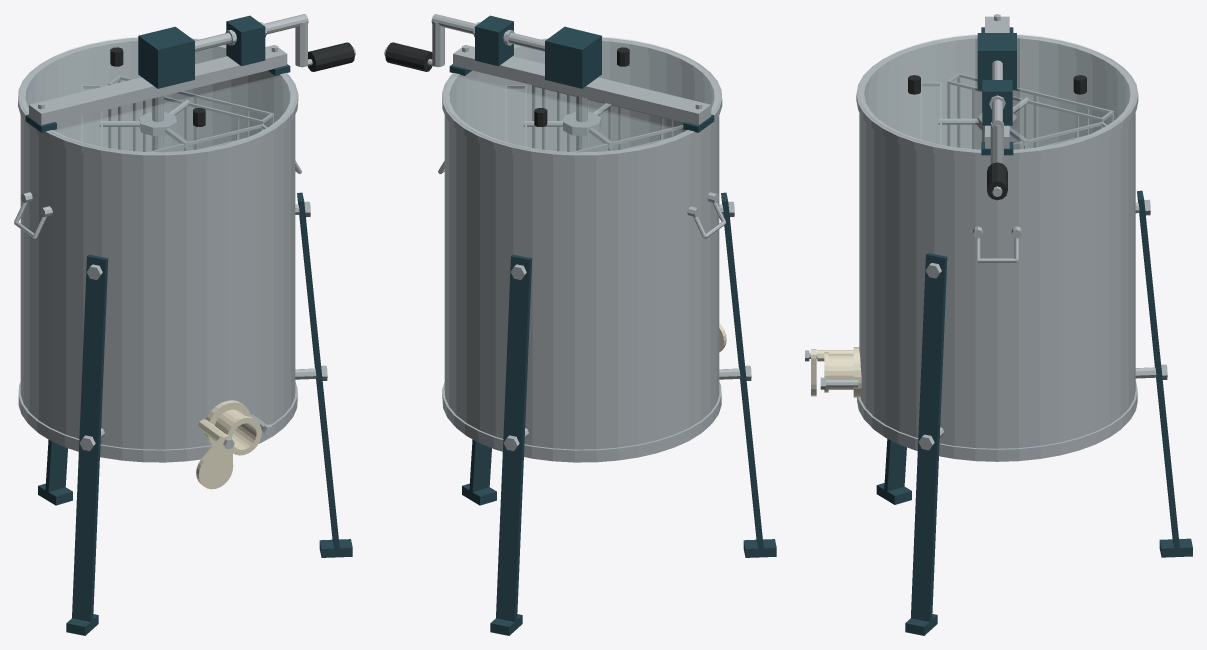
The model's file is NEW447_honey_extractor_LOD2.glb.
3 views of the same model, side by side, from view 1: azimuth 30°, elevation 25°; view 2: azimuth 150°, elevation 25°; view 3: azimuth 270°, elevation 25° (orthographic).
Parts seen in each view (by area): view 1: Vessel_complete_shell, Removable_cover_front, Leg_0, Removable_cover_rear, Bridge_crossbar, Enclosed_drive_head_INFERRED, Leg_1, Carrier_0_complete, Horizontal_shaft_pedestal, Open_swing_gate_plate_complete, Crank_grip, Leg_2 (+8 smaller); view 2: Vessel_complete_shell, Removable_cover_rear, Leg_2, Removable_cover_front, Bridge_crossbar, Enclosed_drive_head_INFERRED, Leg_0, Horizontal_shaft_pedestal, Carrier_2_complete, Crank_grip, Leg_1, Horizontal_drive_shaft (+4 smaller); view 3: Vessel_complete_shell, Removable_cover_front, Removable_cover_rear, Leg_1, Leg_2, Carrier_1_complete, Enclosed_drive_head_INFERRED, Horizontal_shaft_pedestal, Leg_0, Gate_through_sleeve, Bridge_crossbar, Crank_grip (+2 smaller).
Boxes of the visible parts, <box> form: Vessel_complete_shell: <box>18,37,298,462</box>; Removable_cover_front: <box>51,74,295,153</box>; Leg_0: <box>72,254,108,622</box>; Removable_cover_rear: <box>20,37,226,113</box>; Bridge_crossbar: <box>29,45,287,125</box>; Enclosed_drive_head_INFERRED: <box>138,26,194,88</box>; Leg_1: <box>297,192,339,549</box>; Carrier_0_complete: <box>108,75,273,151</box>; Horizontal_shaft_pedestal: <box>226,15,265,66</box>; Open_swing_gate_plate_complete: <box>196,434,233,489</box>; Crank_grip: <box>307,42,354,71</box>; Leg_2: <box>45,439,67,492</box>; Vessel_complete_shell: <box>442,37,722,462</box>; Removable_cover_rear: <box>444,74,688,154</box>; Leg_2: <box>496,254,532,621</box>; Removable_cover_front: <box>513,37,719,113</box>; Bridge_crossbar: <box>453,45,711,125</box>; Enclosed_drive_head_INFERRED: <box>545,26,601,88</box>; Leg_0: <box>721,192,763,548</box>; Horizontal_shaft_pedestal: <box>475,15,513,66</box>; Carrier_2_complete: <box>532,85,683,151</box>; Crank_grip: <box>385,42,432,71</box>; Leg_1: <box>469,439,491,493</box>; Horizontal_drive_shaft: <box>431,14,544,51</box>; Vessel_complete_shell: <box>856,35,1138,461</box>; Removable_cover_front: <box>859,34,974,151</box>; Removable_cover_rear: <box>1020,34,1135,151</box>; Leg_1: <box>911,253,947,622</box>; Leg_2: <box>1137,190,1179,548</box>; Carrier_1_complete: <box>947,73,1113,149</box>; Enclosed_drive_head_INFERRED: <box>977,33,1016,90</box>; Horizontal_shaft_pedestal: <box>982,80,1012,125</box>; Leg_0: <box>884,439,906,492</box>; Gate_through_sleeve: <box>828,354,853,389</box>; Bridge_crossbar: <box>985,16,1009,148</box>; Crank_grip: <box>987,162,1007,200</box>.
Bounding box in the file's own units: 0.7105 × 1.04 × 0.7018.
